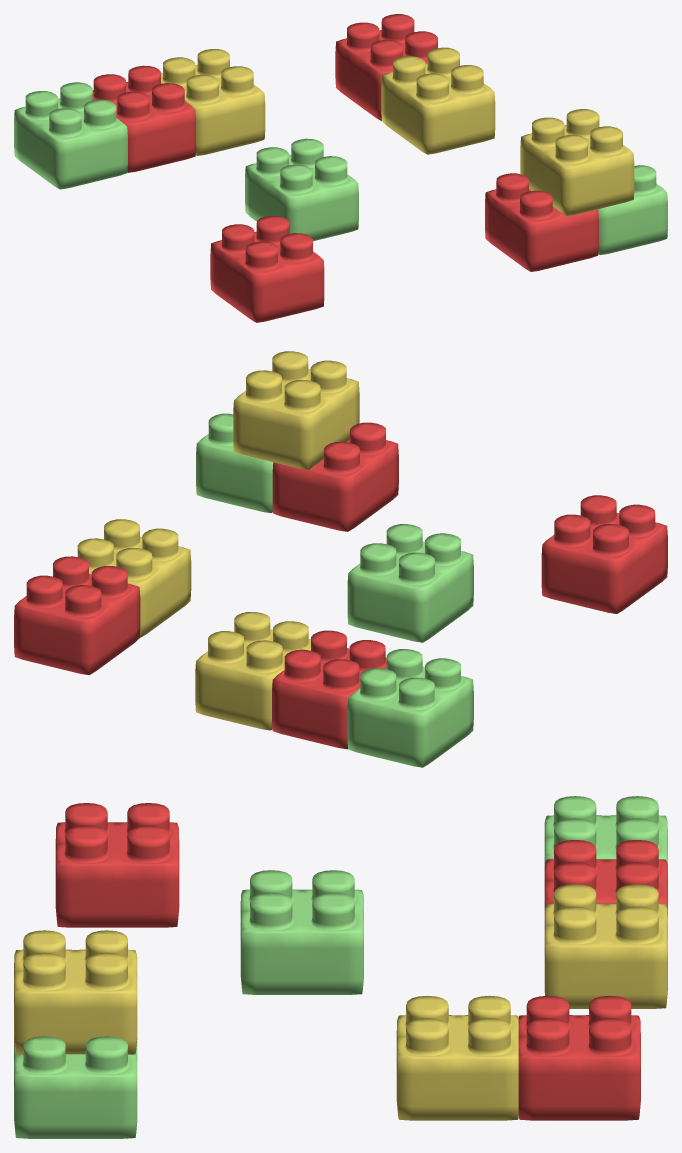
File: Legos Sueltos.fbx
3 views of the same model, one above another, from view 1: azimuth 30°, elevation 25°; view 2: azimuth 150°, elevation 25°; view 3: azimuth 270°, elevation 25° (orthographic). The views are drawn at different scales.
Parts seen in each view (by area): view 1: Cube.016; view 2: Cube.016; view 3: Cube.016.
Part boxes in pixels (x1,y1,x2,y2): Cube.016: (14,14,667,322); Cube.016: (14,351,667,767); Cube.016: (14,796,667,1138).
Size of the model in its own units: 0.7152 by 0.755 by 0.1864.
